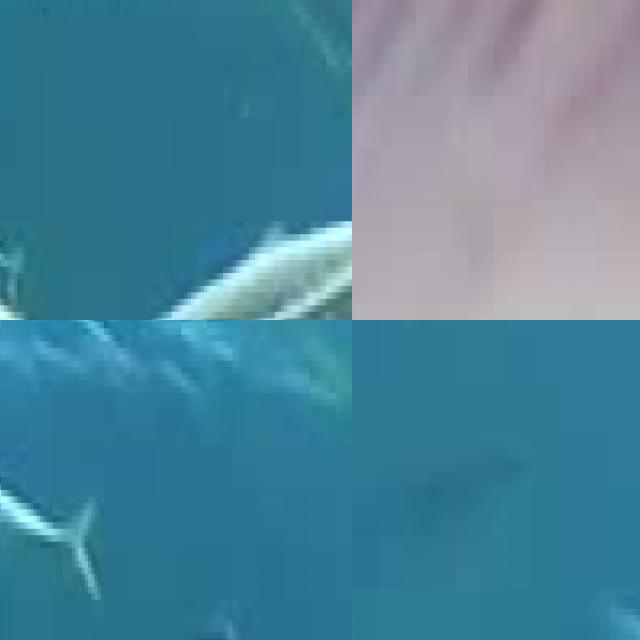fish: (0, 0, 352, 320), (242, 320, 352, 516)
